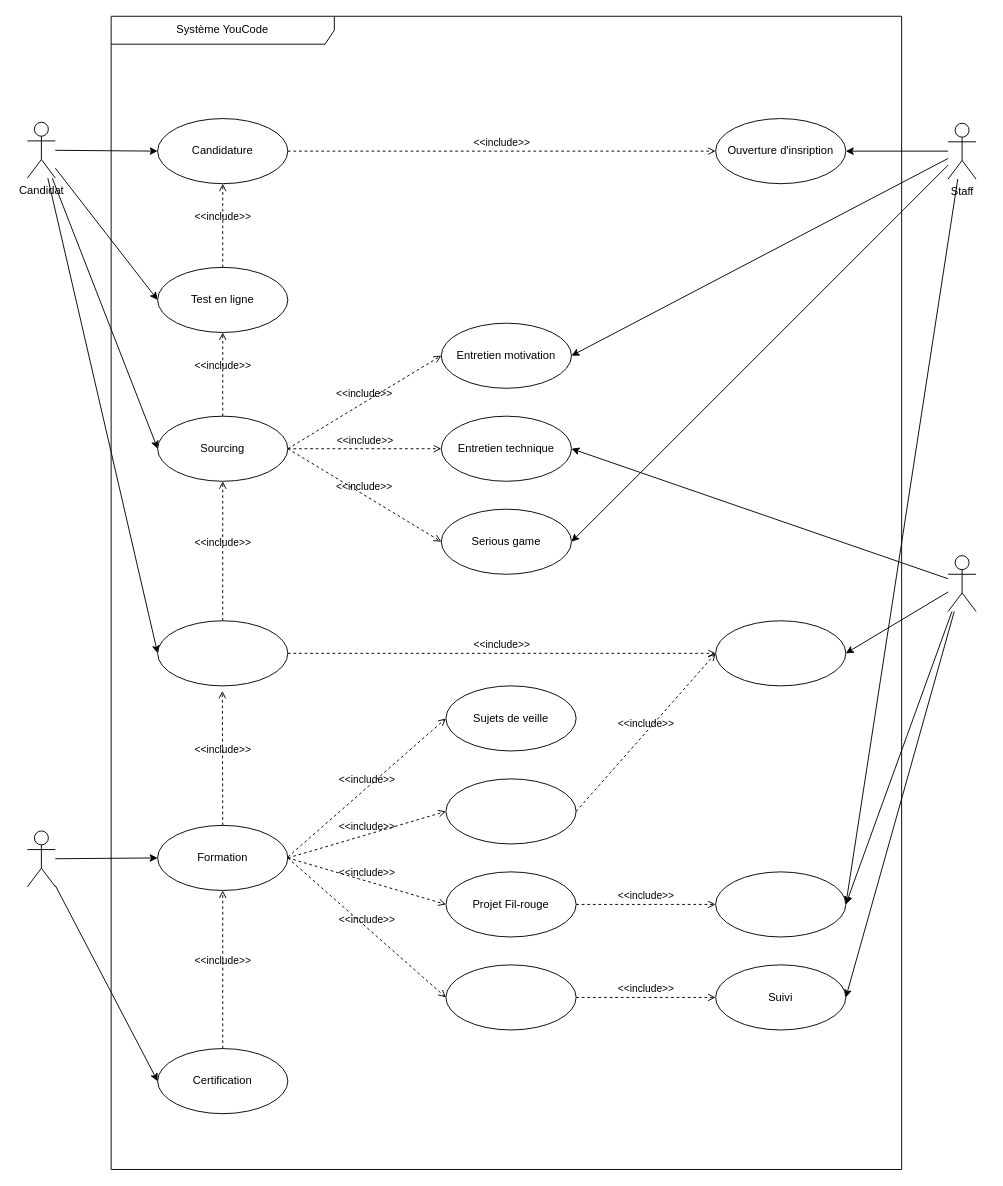
Image size: 1003x1186. Some labels were removed from this diagram. Each missing label, with the centre of its shape:
"Apprenant" goes at point 41,858.
"Briefs projets" goes at point 510,811.
"Formateur" goes at point 961,583.
"Période SAS" goes at point 222,653.
"Soutenance" goes at point 780,904.
"Stage" goes at point 510,997.
"Validation" goes at point 780,653.
